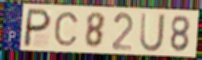2: (111, 11, 135, 52)
8: (84, 11, 106, 50), (170, 14, 191, 53)
C: (53, 11, 80, 48)
P: (21, 7, 53, 49)
U: (139, 11, 167, 54)
